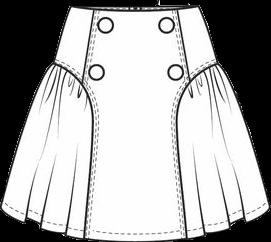Hemline: (0, 206, 85, 240), (185, 207, 269, 238)
Waistline: (174, 63, 219, 241), (54, 62, 95, 241), (68, 4, 198, 12)
